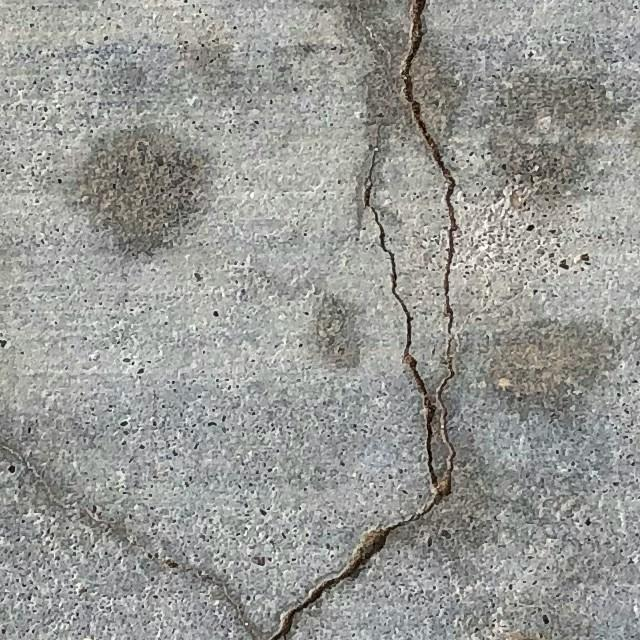branched cracks: (268, 0, 458, 639)
